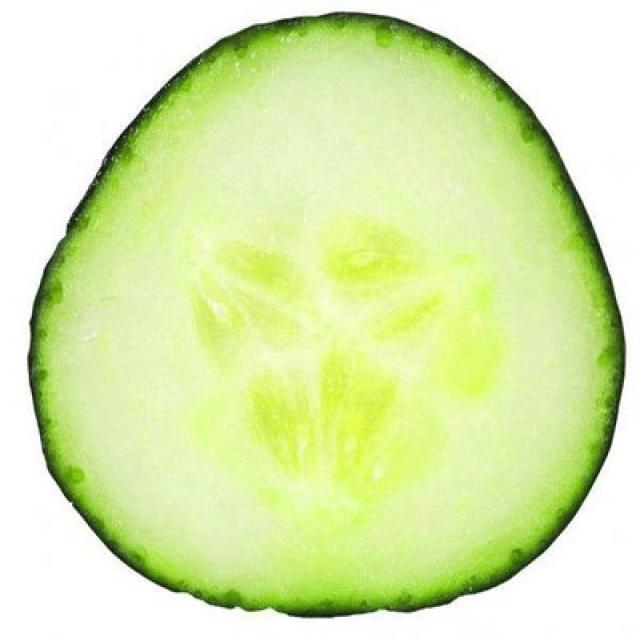Cucumber: (7, 6, 638, 640)
